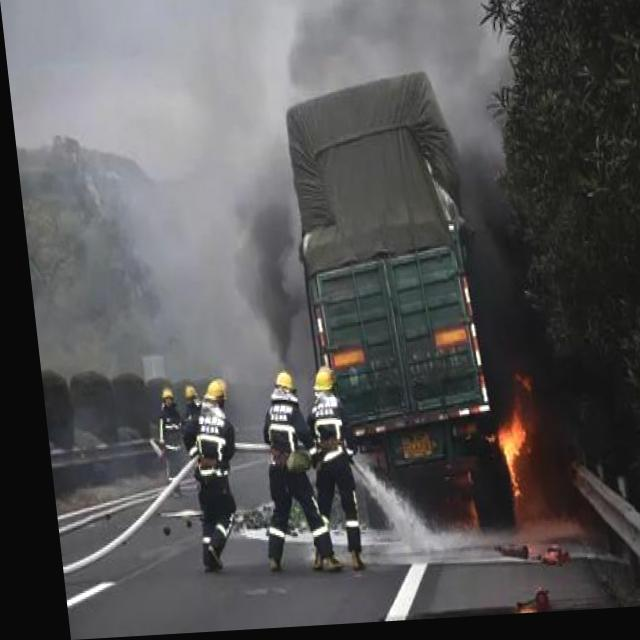Fire: (476, 402, 534, 508)
